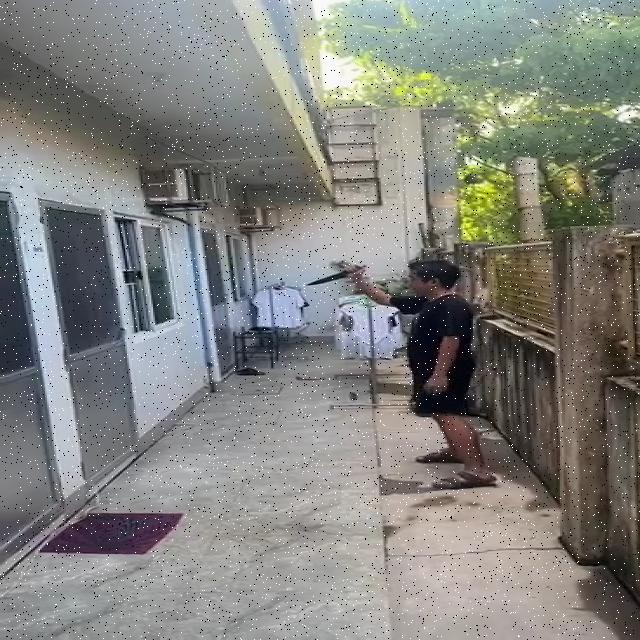knife: (306, 264, 367, 286)
non-violence: (306, 260, 497, 490)
